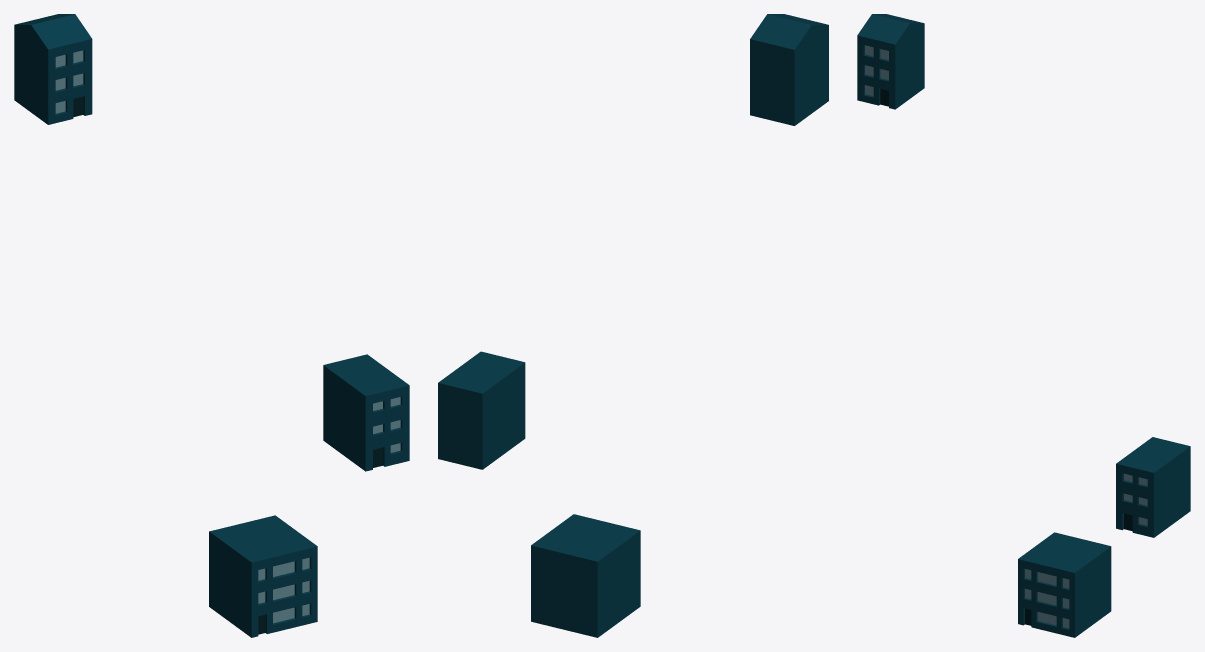
Rendered from BinaGrup14.gltf.
The picture shows the model from 3 angles, left to right: view 1: azimuth 30°, elevation 25°; view 2: azimuth 150°, elevation 25°; view 3: azimuth 330°, elevation 25°; orthographic projection. The views are drawn at different scales.
Parts seen in each view (by area): view 1: Building_048.011, Building_054.011, Building_030.011, Building_048.012, Building_030.012; view 2: Building_048.011, Building_054.011, Building_030.011; view 3: Building_048.011, Building_054.011, Building_030.011, Building_048.012.
Part boxes in pixels (x1=…): Building_048.011: x1=209, y1=515, x2=317, y2=637; Building_054.011: x1=323, y1=354, x2=409, y2=471; Building_030.011: x1=14, y1=14, x2=92, y2=124; Building_048.012: x1=258, y1=557, x2=309, y2=623; Building_030.012: x1=55, y1=50, x2=83, y2=113; Building_048.011: x1=531, y1=514, x2=640, y2=637; Building_054.011: x1=438, y1=351, x2=525, y2=469; Building_030.011: x1=750, y1=14, x2=828, y2=125; Building_048.011: x1=1018, y1=532, x2=1111, y2=637; Building_054.011: x1=1116, y1=437, x2=1190, y2=537; Building_030.011: x1=857, y1=14, x2=924, y2=109; Building_048.012: x1=1025, y1=569, x2=1069, y2=628.
Size of the model in its own units: 0.2609 by 0.4533 by 0.0543.
